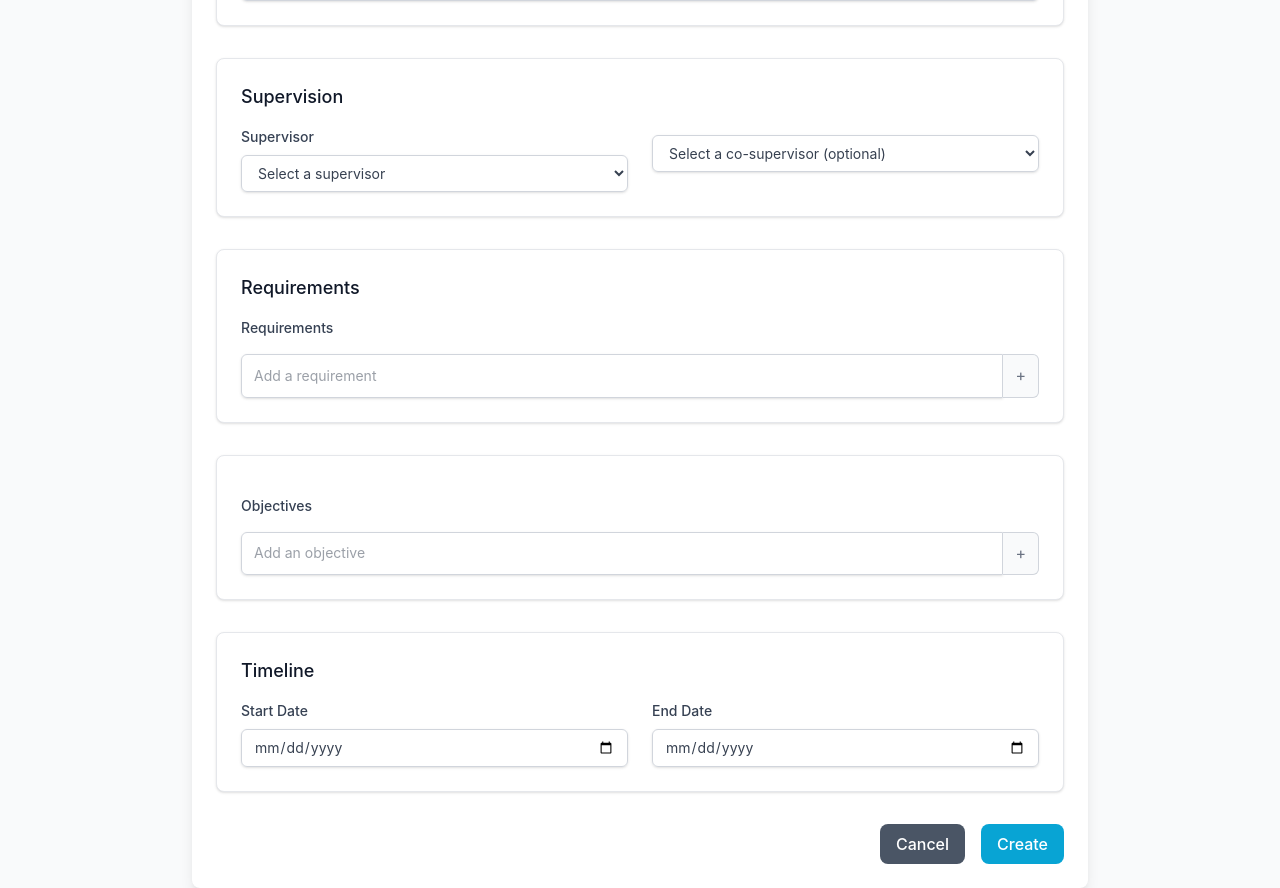
Test: ProjectForm.vue › adds an objective when type is msc
(page scrolled)
Type "Finish thesis" into the field with placeholder "Add an objective".
click(622, 553); type("Finish thesis")  # box [241,532,1003,575]
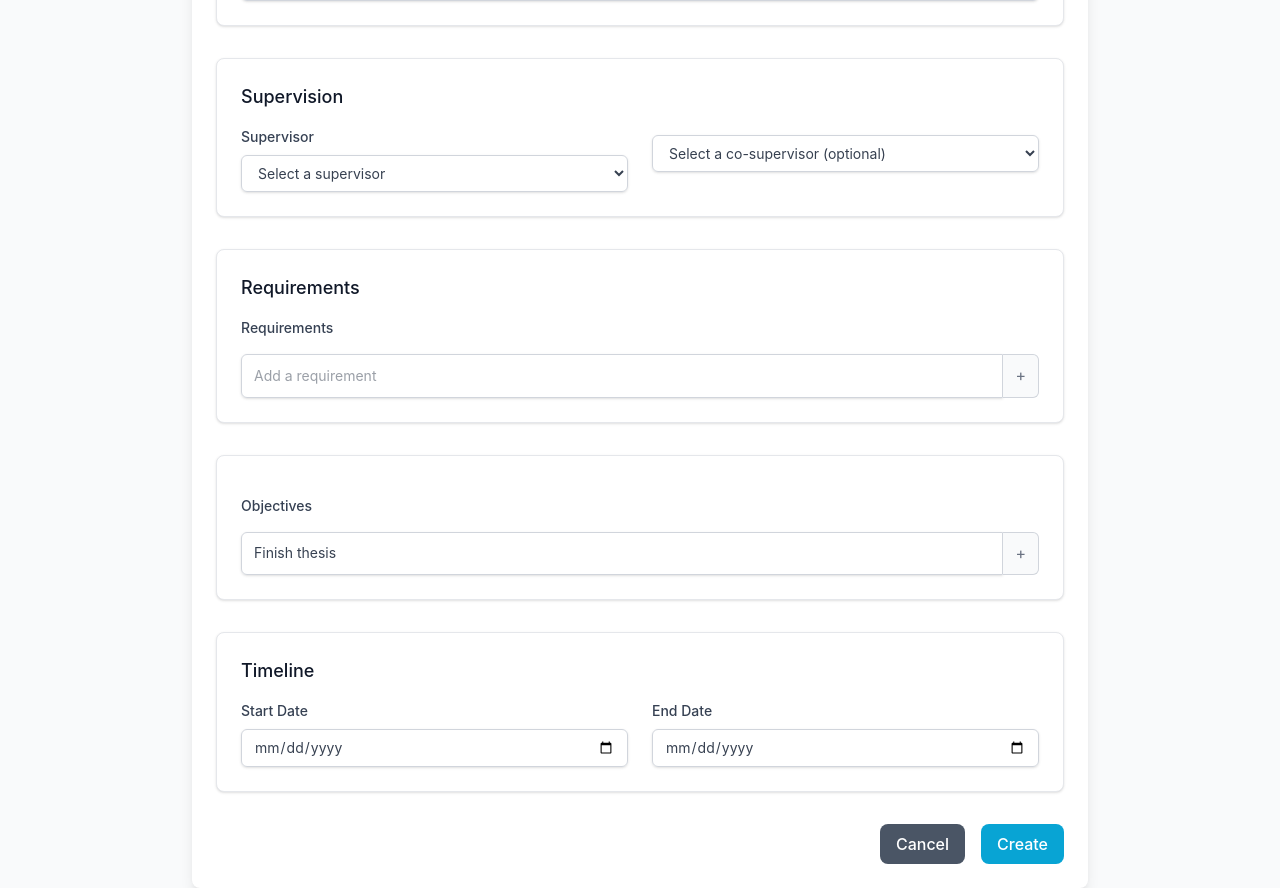
Press Enter in the field with placeholder "Add an objective", box [241,532,1003,575]
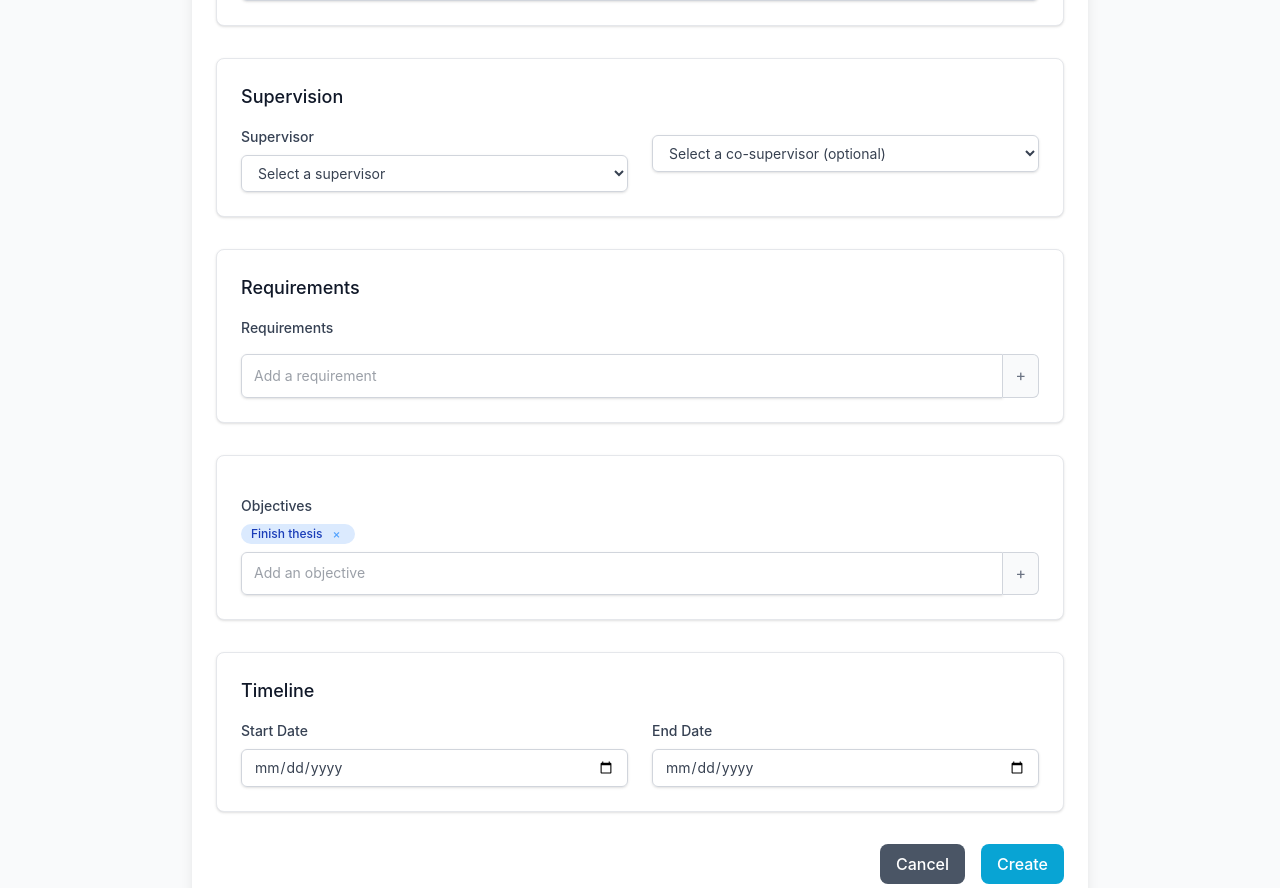
expect the text "Finish thesis" is shown: met, box [251,526,322,541]
